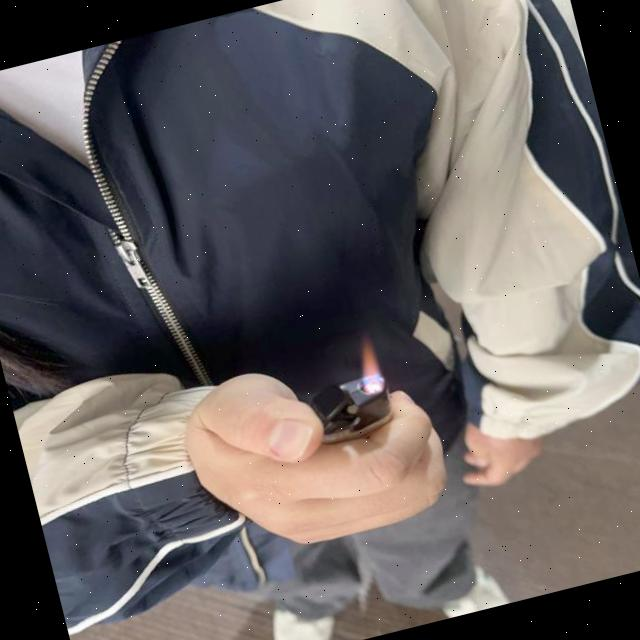fire: (355, 341, 384, 383)
